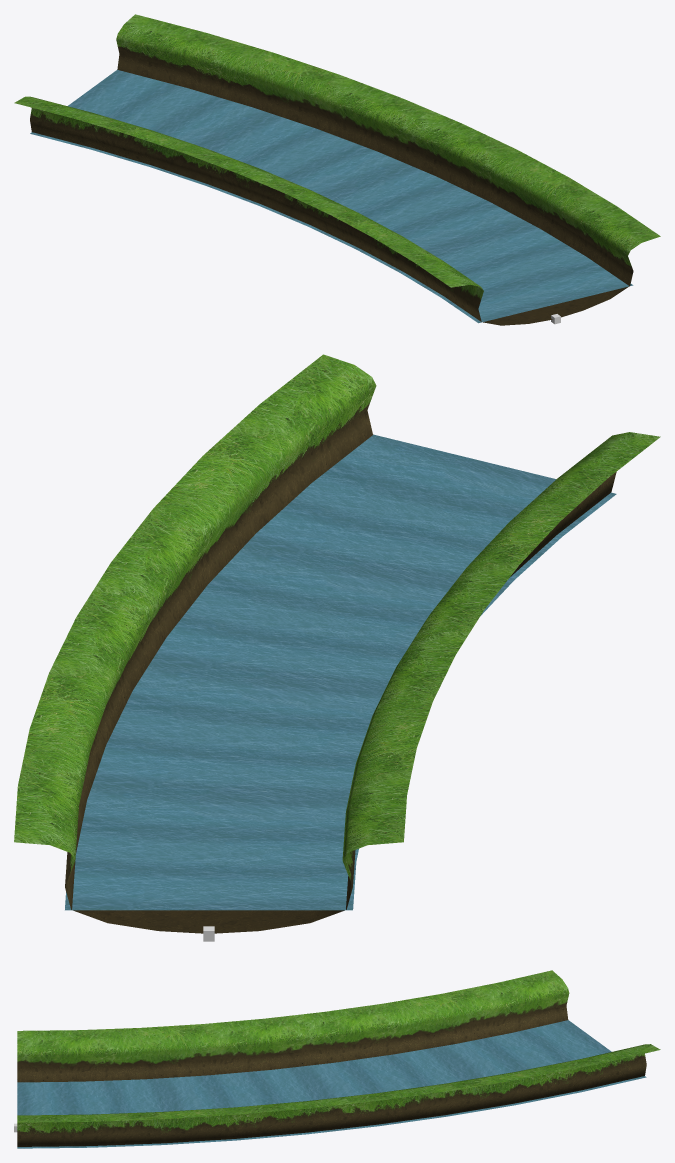
File: roadBend30.L.fbx
3 views of the same model, one above another, from view 1: azimuth 30°, elevation 25°; view 2: azimuth 150°, elevation 25°; view 3: azimuth 270°, elevation 25° (orthographic). The views are drawn at different scales.
Visible parts, largest first — view 1: MESH roadBend30.L; view 2: MESH roadBend30.L; view 3: MESH roadBend30.L.
Part boxes in pixels (<box>): MESH roadBend30.L: <box>14,14,660,325</box>; MESH roadBend30.L: <box>14,354,660,933</box>; MESH roadBend30.L: <box>17,970,660,1148</box>.
Size of what is drawn, in the model's own units: 2806 by 463 by 5031.
